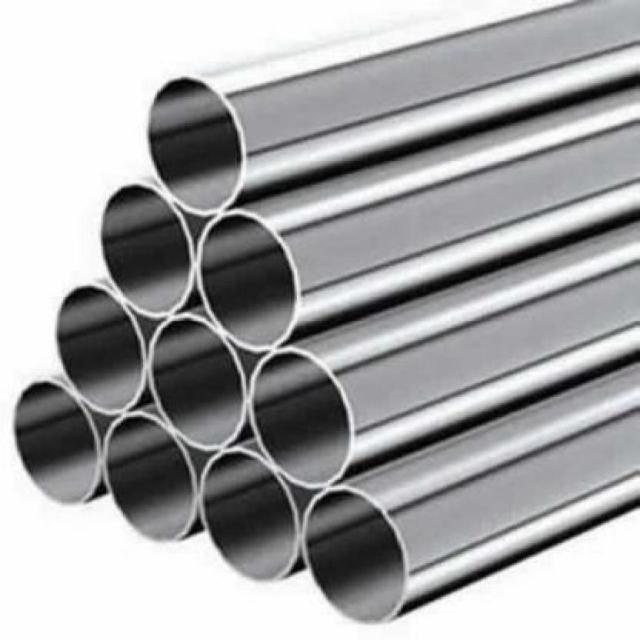pipe: (246, 342, 359, 493), (298, 485, 413, 628), (196, 207, 303, 357), (195, 439, 303, 584), (144, 72, 249, 218), (145, 311, 252, 451), (94, 179, 199, 321), (49, 281, 148, 417), (9, 371, 105, 510), (102, 413, 201, 547)
